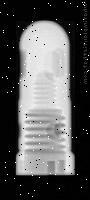Camlog: (16, 21, 75, 175)
